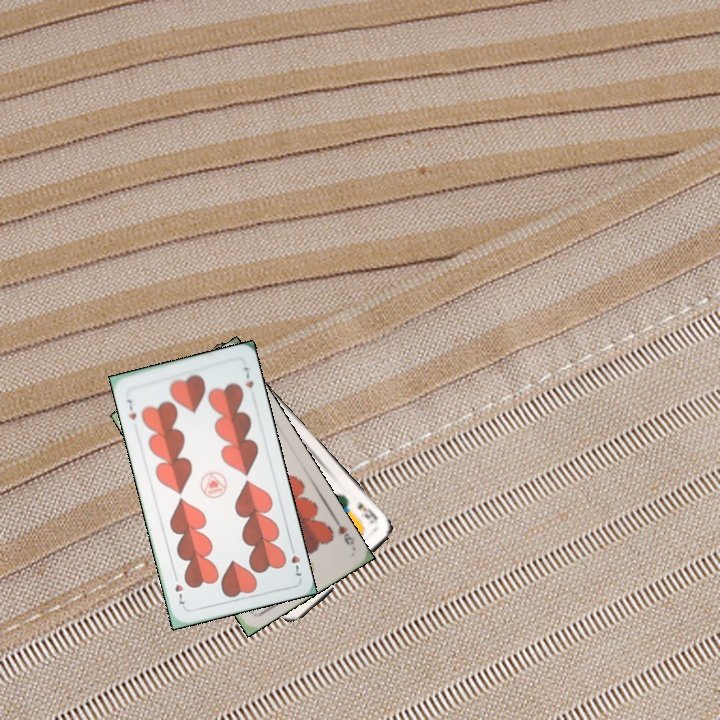EK: (353, 498, 381, 527)
H7: (286, 541, 304, 579), (123, 395, 139, 422)
H9: (330, 515, 357, 552)
